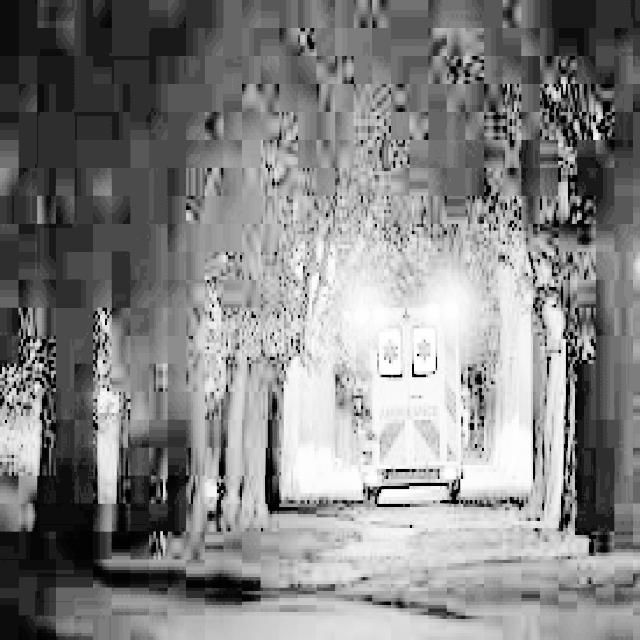Ambulance: (354, 288, 468, 506)
